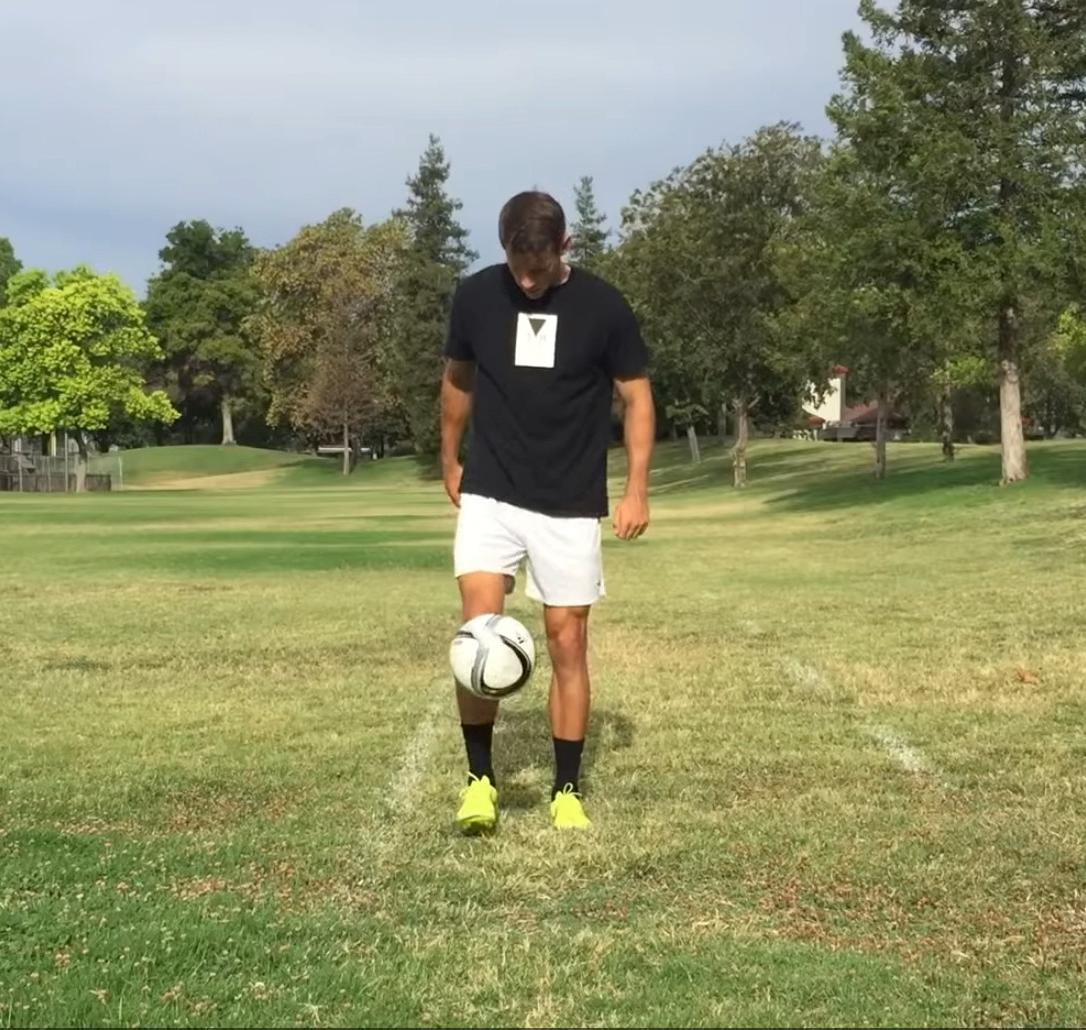ball: (445, 618, 532, 702)
foot: (456, 770, 503, 830), (546, 782, 591, 833)
person: (438, 191, 655, 827)
